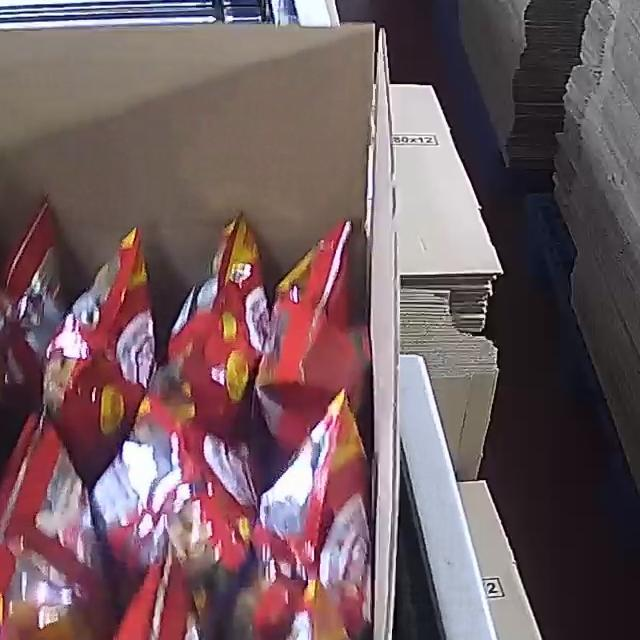masala: (0, 196, 377, 640)
